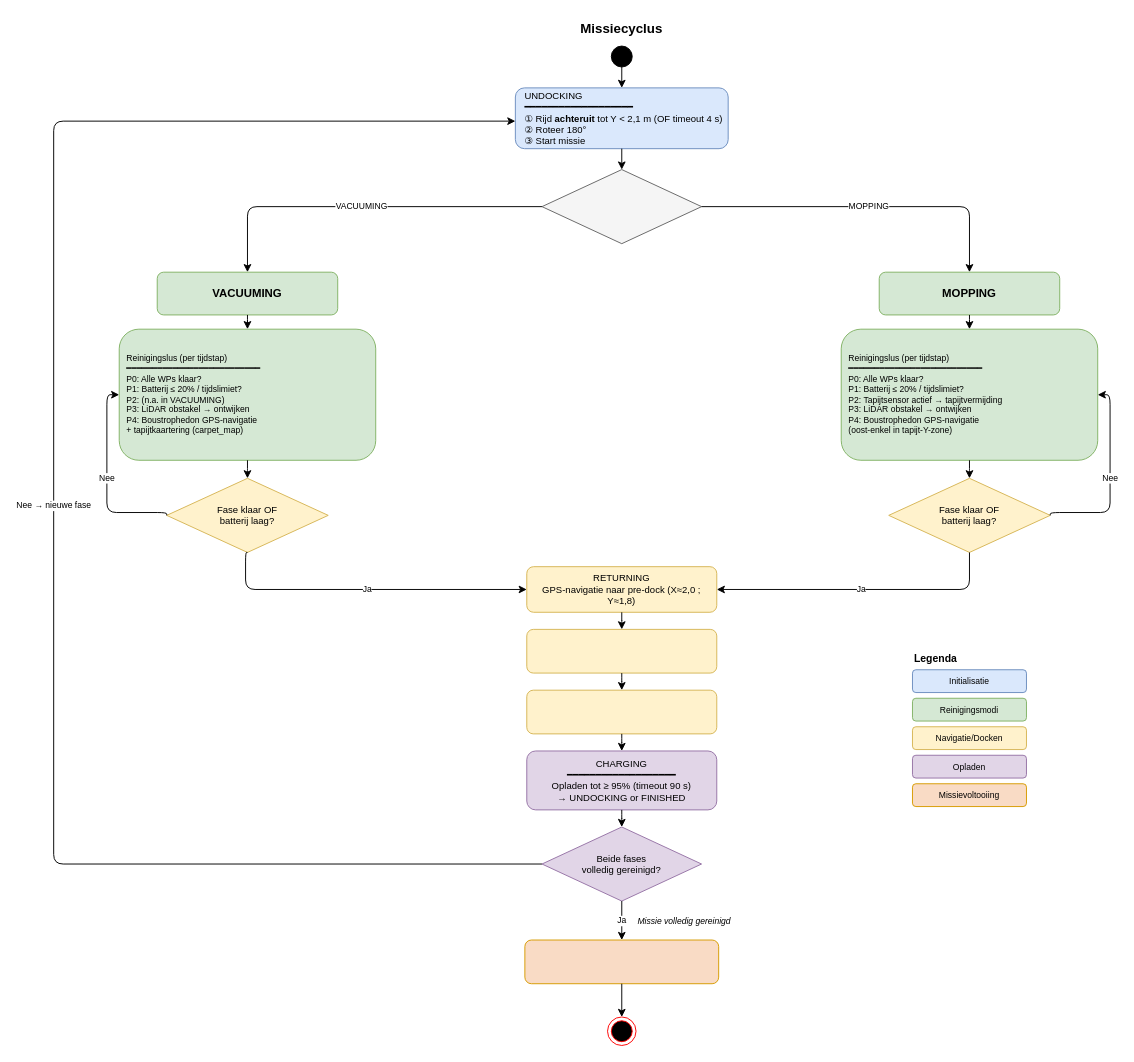
This 1134x1062 diagram has some shape labels left out. The centre of each missing label's shape, as x and y in pixels:
ALIGNING PID-koersregeling → 0° (timeout 10 s): the point at 621,650
DOCKING Rijd naar lader, bumper in dock → klaar: the point at 621,711
FINISHED Mission complete — robot stops: the point at 621,961
Welke mission_phase?: the point at 621,206
